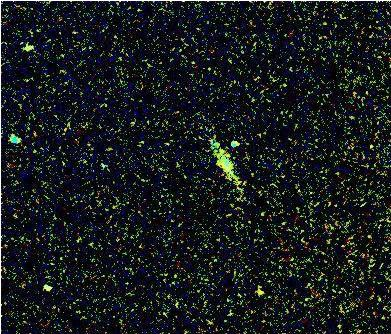star: (247, 275, 277, 305)
